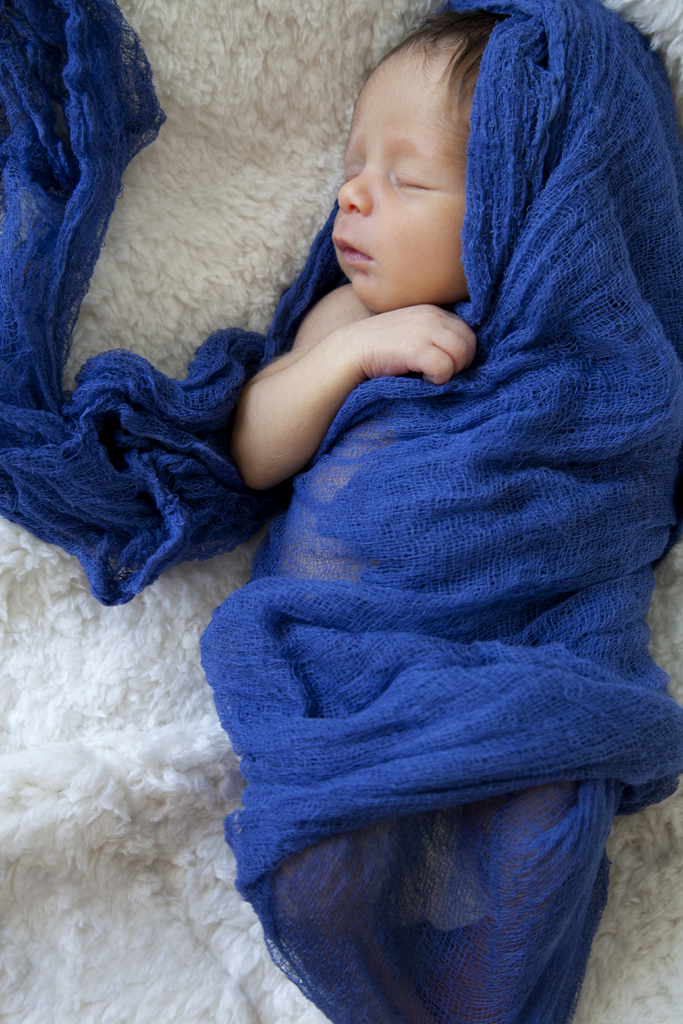Person: (231, 6, 597, 1023)
